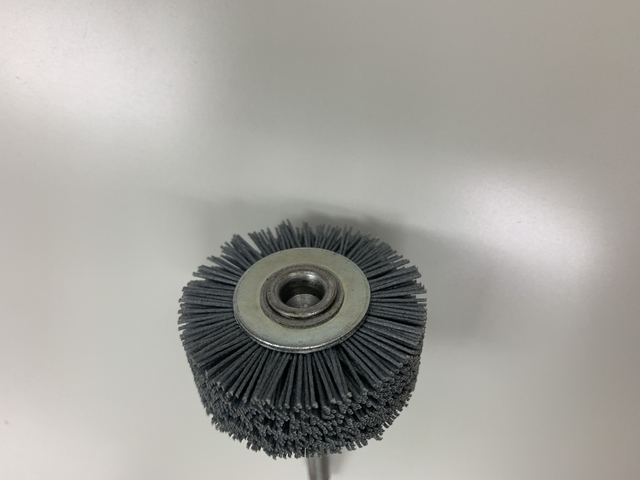Wheel Brush: (168, 217, 446, 476), (183, 207, 421, 480)
